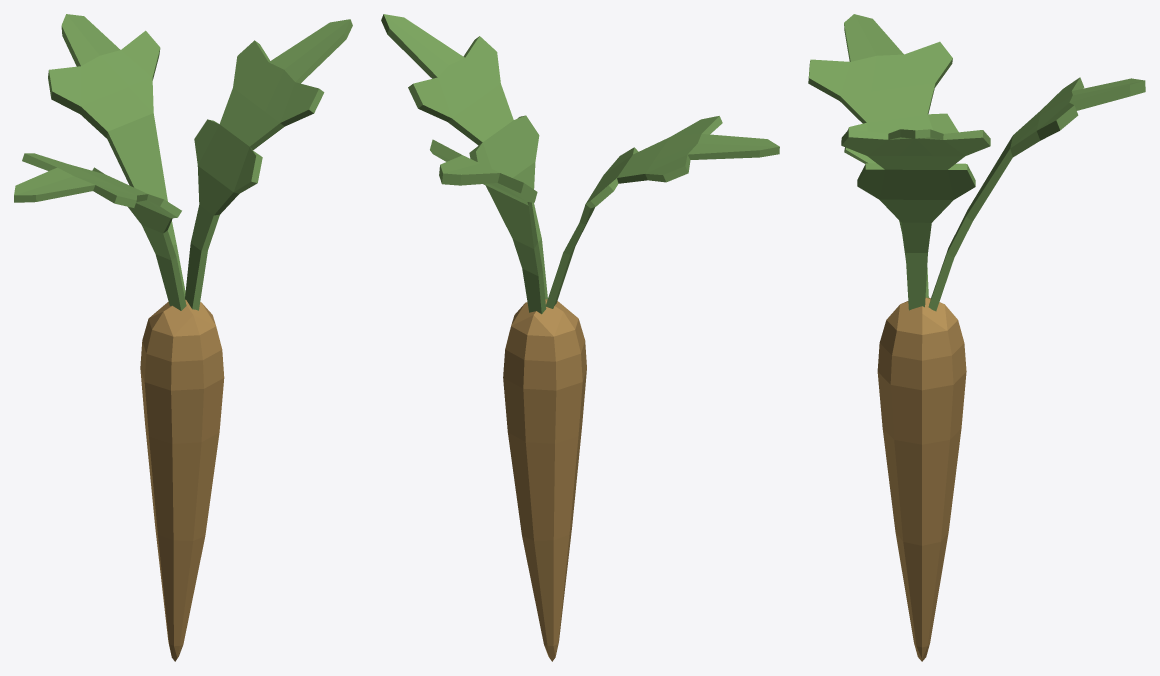
Rendered from carrot_3.glb.
3 renders of one model, left to right at view 1: azimuth 30°, elevation 25°; view 2: azimuth 150°, elevation 25°; view 3: azimuth 270°, elevation 25°, orthographic. The views are drawn at different scales.
Visible parts, largest first — view 1: Green, LightOrange; view 2: Green, LightOrange; view 3: Green, LightOrange.
Boxes of the visible parts, bbox=[...] form: Green: bbox=[14, 14, 352, 310]; LightOrange: bbox=[140, 300, 224, 661]; Green: bbox=[381, 14, 779, 314]; LightOrange: bbox=[503, 299, 586, 661]; Green: bbox=[808, 14, 1145, 311]; LightOrange: bbox=[877, 297, 966, 661].
Size of the model in its own units: 0.3336 by 0.5215 by 0.2582.
